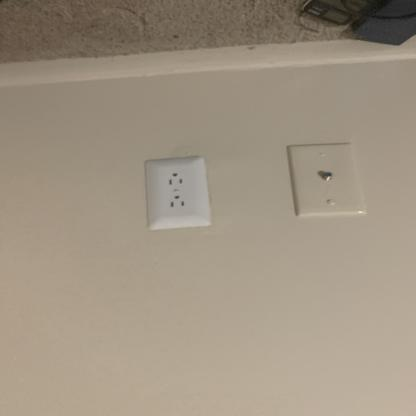OUTLET: (147, 156, 207, 229)
